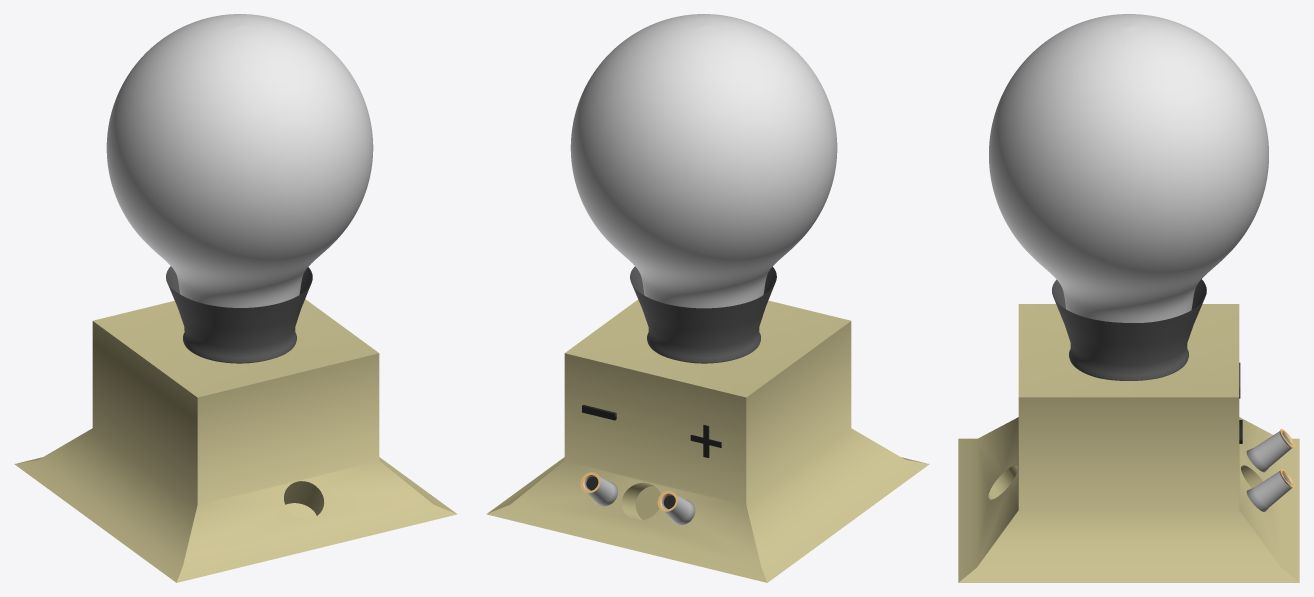
Rendered from lamp.fbx.
3 views of the same model, side by side, from view 1: azimuth 30°, elevation 25°; view 2: azimuth 150°, elevation 25°; view 3: azimuth 270°, elevation 25° (orthographic). The views are drawn at different scales.
Visible parts, largest first — view 1: Cube, Sphere.001, Sphere; view 2: Cube, Sphere.001, Sphere, plus_cyl.001, plus_cyl; view 3: Cube, Sphere.001, Sphere, plus_cyl.001, plus_cyl.
Boxes of the visible parts, x1,y1,x2,y2 form: Cube: (14,299,457,582); Sphere.001: (106,14,373,307); Sphere: (166,266,312,363); Cube: (486,299,929,582); Sphere.001: (570,14,837,308); Sphere: (630,266,776,363); plus_cyl.001: (657,491,695,524); plus_cyl: (580,472,617,506); Cube: (958,304,1299,582); Sphere.001: (989,14,1268,322); Sphere: (1052,279,1206,380); plus_cyl.001: (1246,429,1294,472); plus_cyl: (1246,468,1294,511).
Size of the model in its own units: 392 by 615 by 392.
